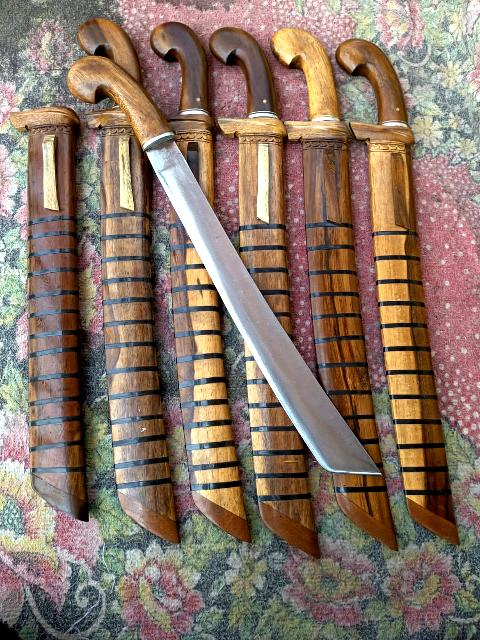long knife: (67, 54, 381, 476), (270, 26, 400, 552), (335, 39, 461, 545), (209, 22, 321, 560), (77, 18, 183, 546), (150, 18, 252, 550)
